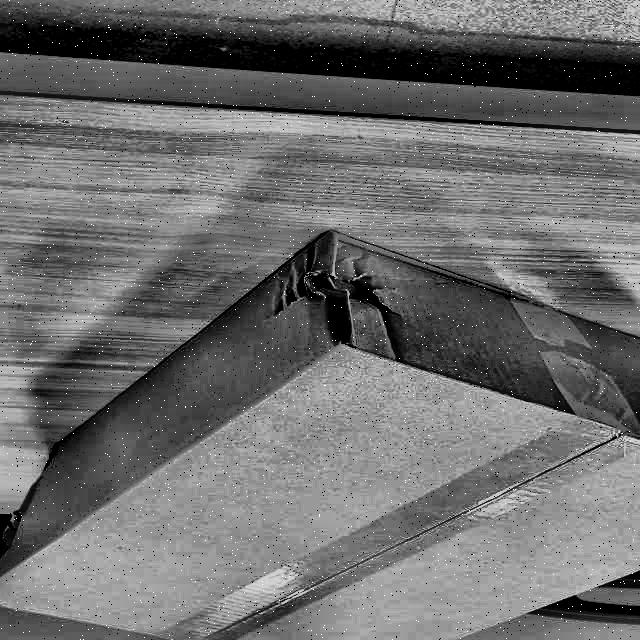box: (1, 215, 640, 640)
hole: (268, 255, 413, 331)
